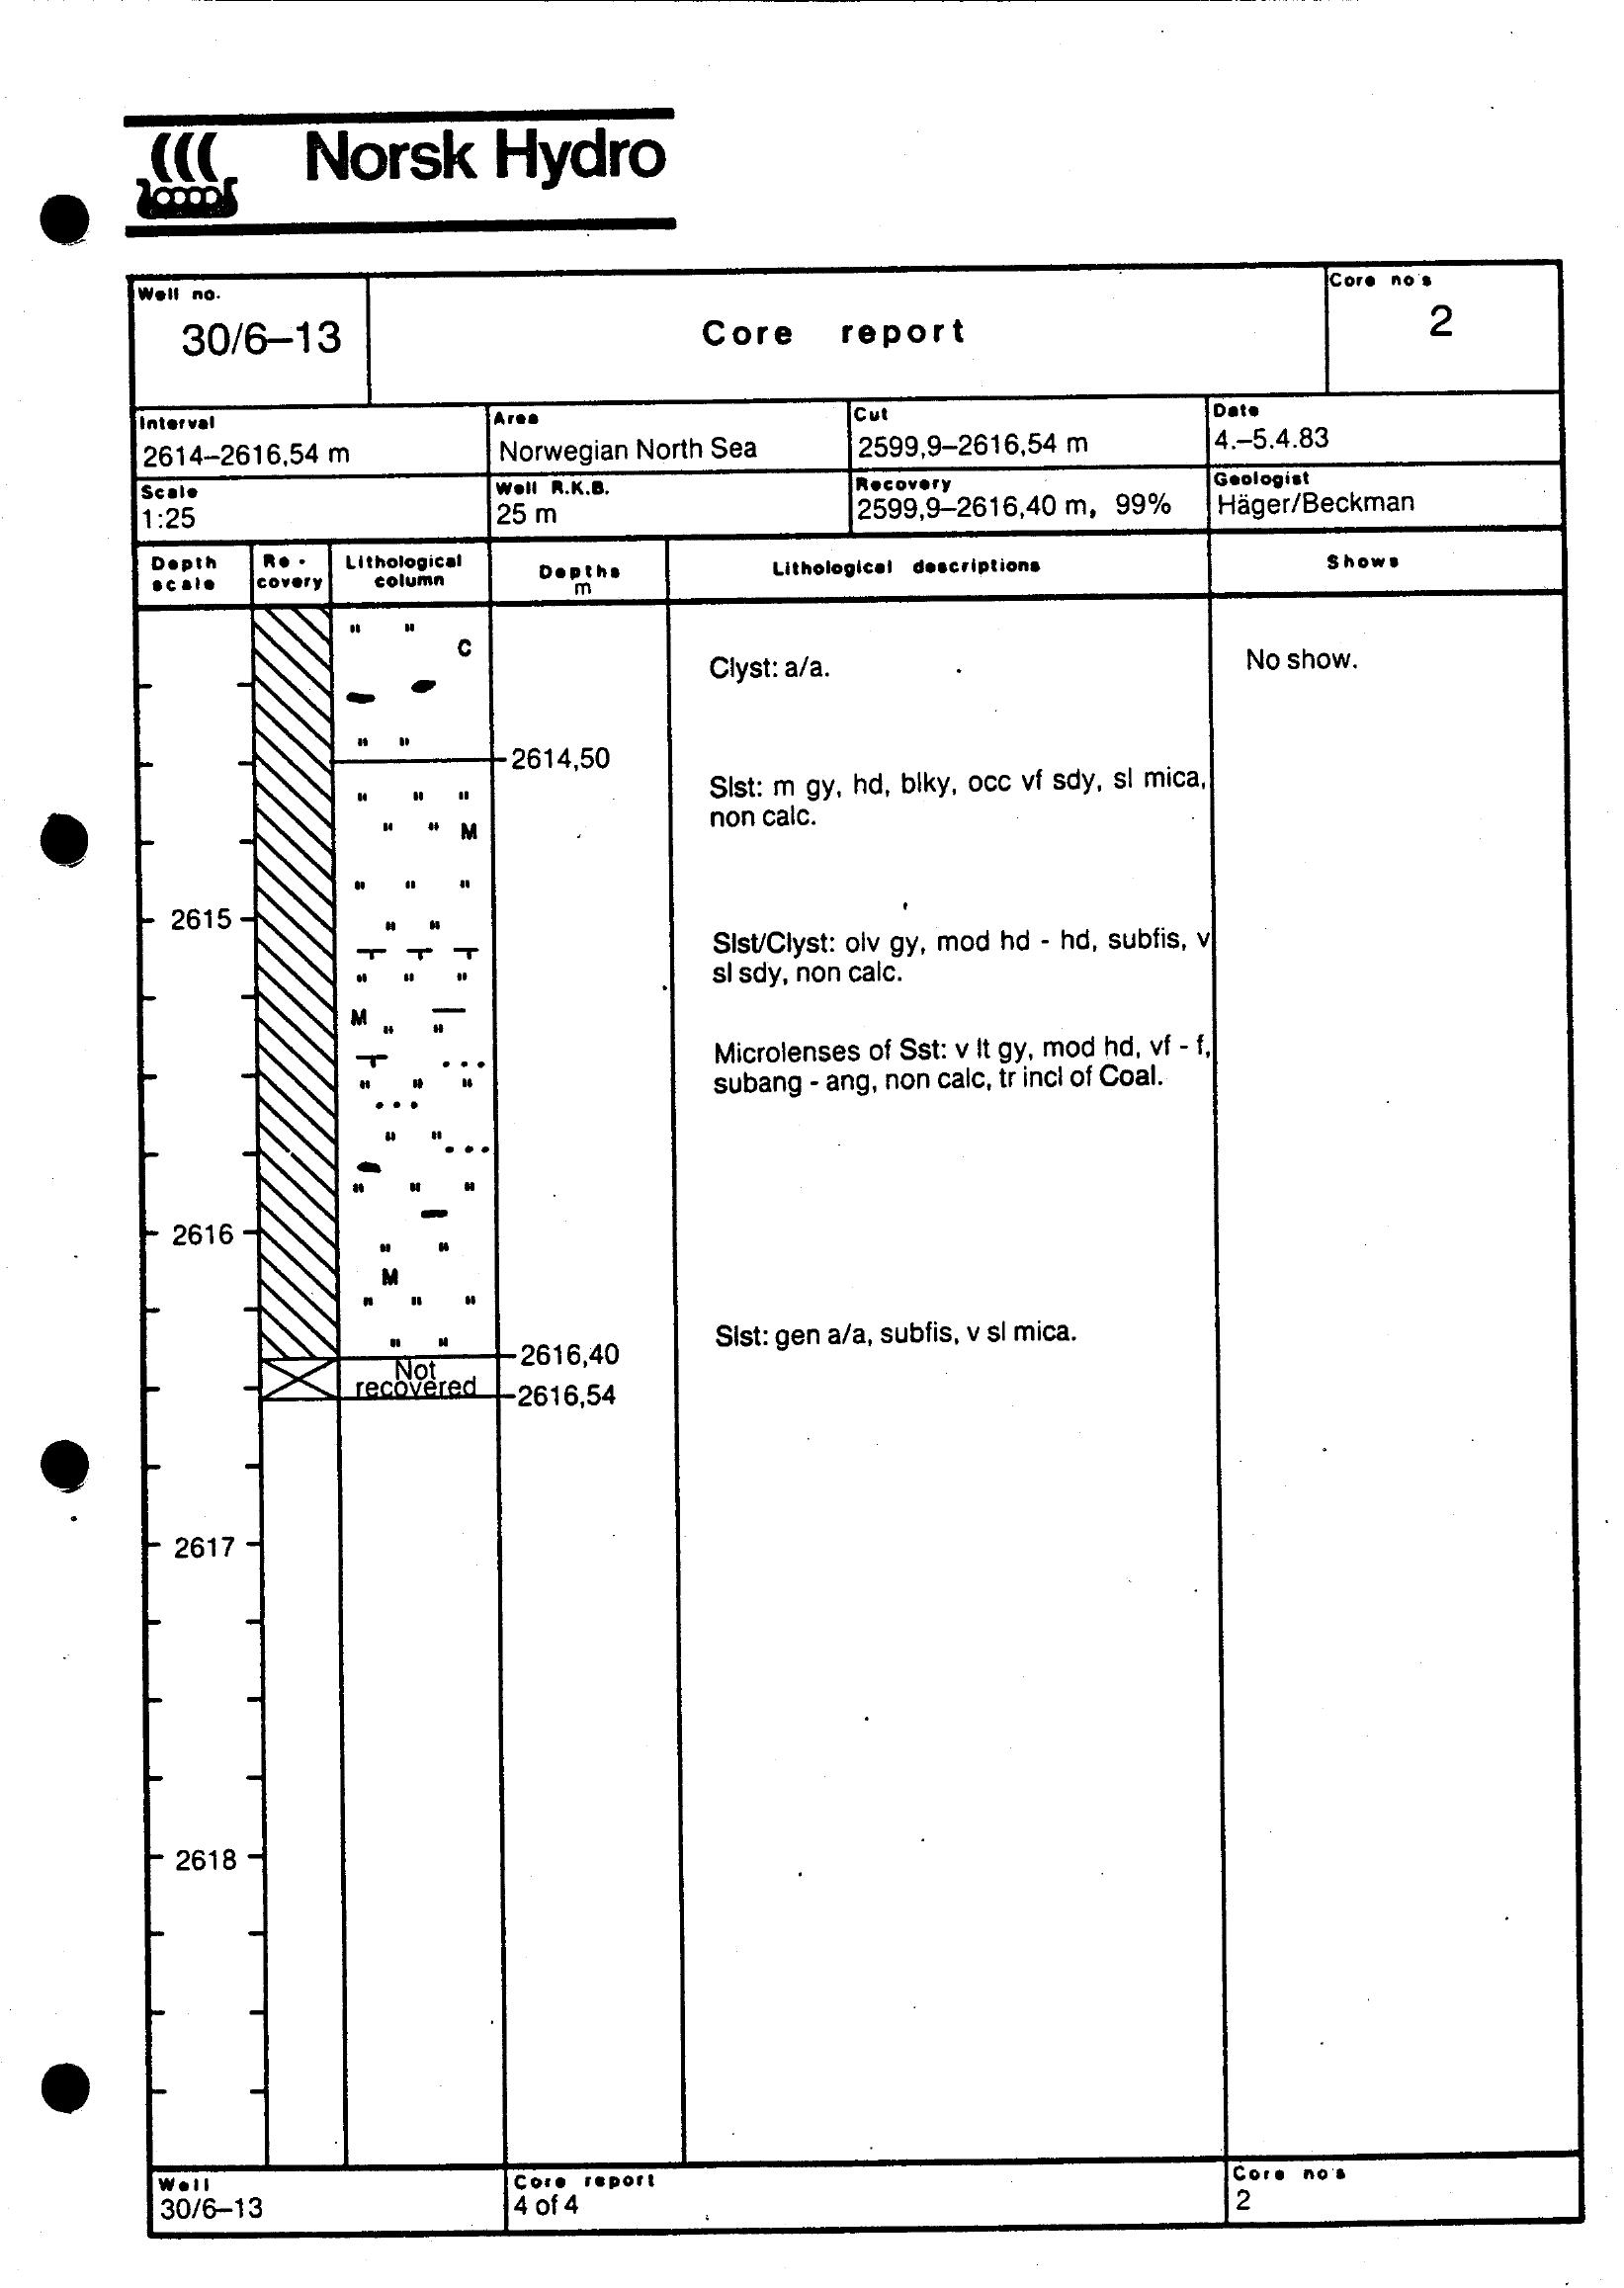graph: (112, 255, 1601, 2251)
undefined: (105, 98, 692, 251)
